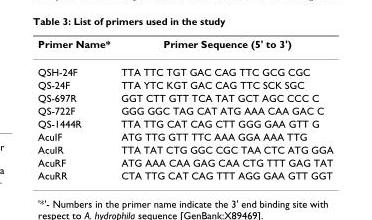table: (37, 37, 332, 180)
table column: (115, 37, 332, 180), (37, 37, 115, 180)
table column header: (37, 37, 332, 57)
table row: (37, 57, 332, 78), (37, 37, 332, 57), (37, 90, 332, 103), (37, 103, 332, 116), (37, 116, 332, 129), (37, 129, 332, 142), (37, 142, 332, 155), (37, 155, 332, 168), (37, 78, 332, 90), (37, 168, 332, 180)
